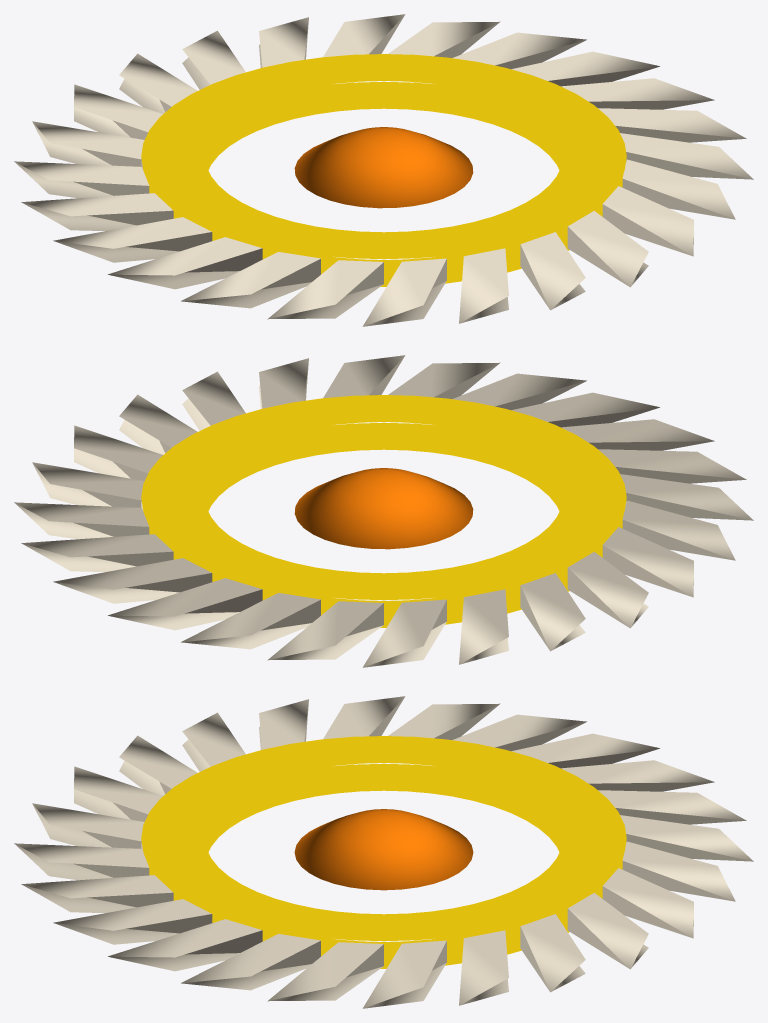
The model's file is SM_SudarshanChakra.obj.
3 views of the same model, one above another, from view 1: azimuth 30°, elevation 25°; view 2: azimuth 150°, elevation 25°; view 3: azimuth 270°, elevation 25° (orthographic).
Visible parts, largest first — view 1: SM_SudarshanChakra; view 2: SM_SudarshanChakra; view 3: SM_SudarshanChakra.
Boxes of the visible parts, x1,y1,x2,y2 form: SM_SudarshanChakra: [14, 14, 753, 326]; SM_SudarshanChakra: [14, 355, 753, 667]; SM_SudarshanChakra: [14, 696, 753, 1008].
Bounding box in the file's own units: 116 × 8.4 × 116.
